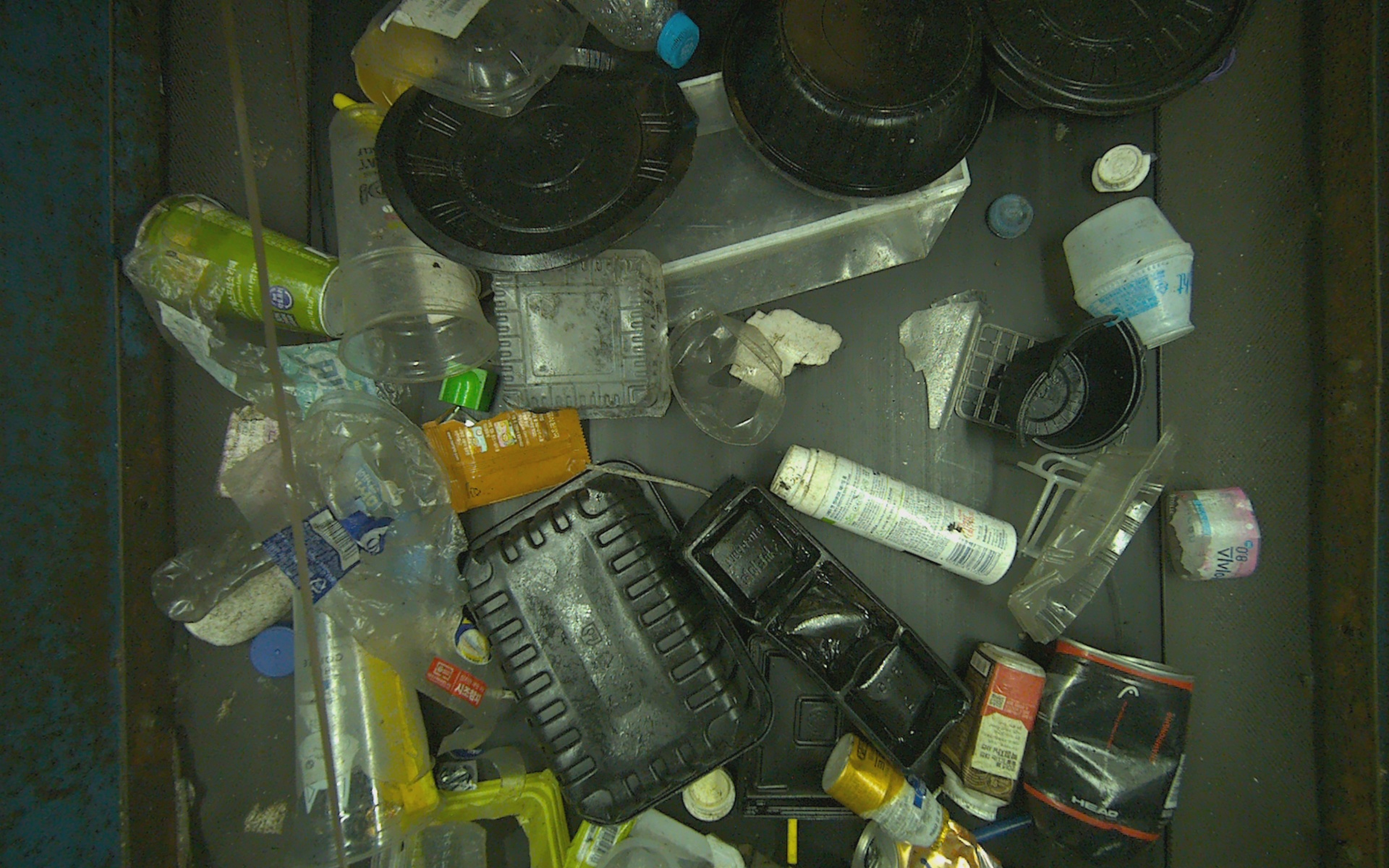PET-C: (330, 104, 495, 380), (1009, 429, 1178, 643), (353, 0, 586, 115), (667, 311, 783, 444)
PP-B: (460, 462, 771, 824), (377, 43, 695, 269), (723, 0, 987, 196)
PS-W: (1065, 199, 1194, 349), (941, 644, 1044, 820), (824, 735, 940, 845)
